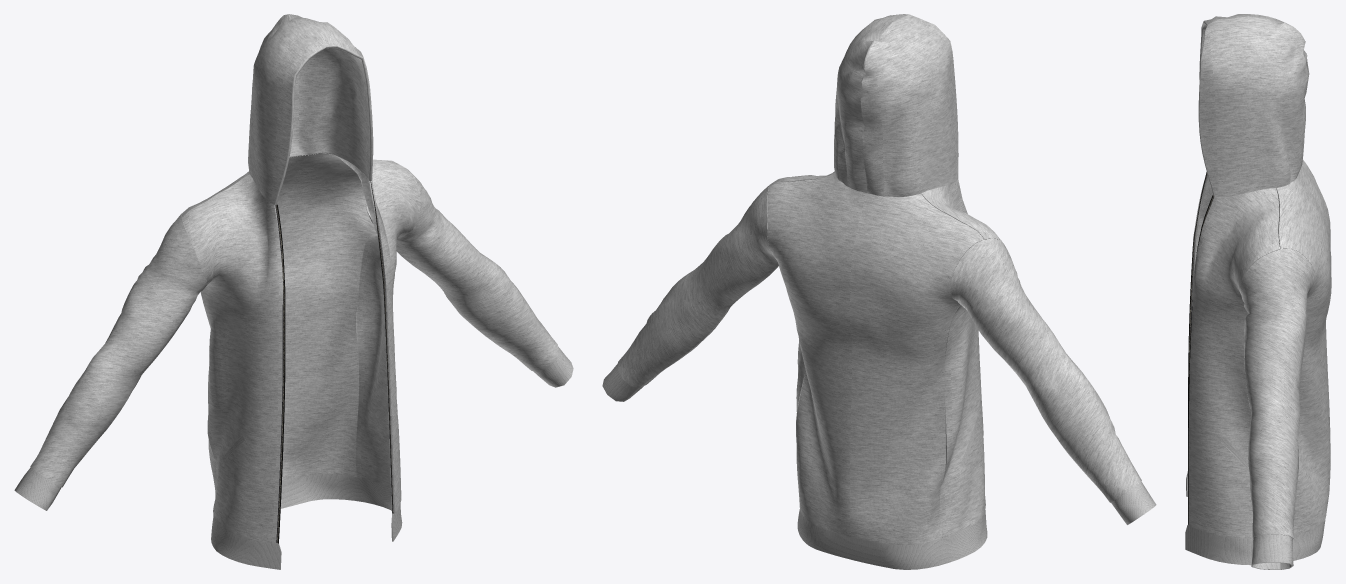
Rendered from ziphoodie.glb.
3 renders of one model, left to right at view 1: azimuth 30°, elevation 25°; view 2: azimuth 150°, elevation 25°; view 3: azimuth 270°, elevation 25°, orthographic.
Parts seen in each view (by area): view 1: Hoodie_Material3748_0, Hoodie_Material3754_0, Hoodie_Material3758_0; view 2: Hoodie_Material3748_0, Hoodie_Material3754_0; view 3: Hoodie_Material3748_0, Hoodie_Material3754_0, Hoodie_Material3758_0.
Boxes of the visible parts, x1,y1,x2,y2 form: Hoodie_Material3748_0: (30,14,559,543); Hoodie_Material3754_0: (14,346,573,569); Hoodie_Material3758_0: (275,180,393,543); Hoodie_Material3748_0: (617,14,1141,544); Hoodie_Material3754_0: (602,363,1156,569); Hoodie_Material3748_0: (1188,14,1331,538); Hoodie_Material3754_0: (1185,436,1325,569); Hoodie_Material3758_0: (1188,172,1213,524).
Bounding box in the file's own units: 2.06 × 1.85 × 0.4779.
Materials: 3 (3 with a texture image).
